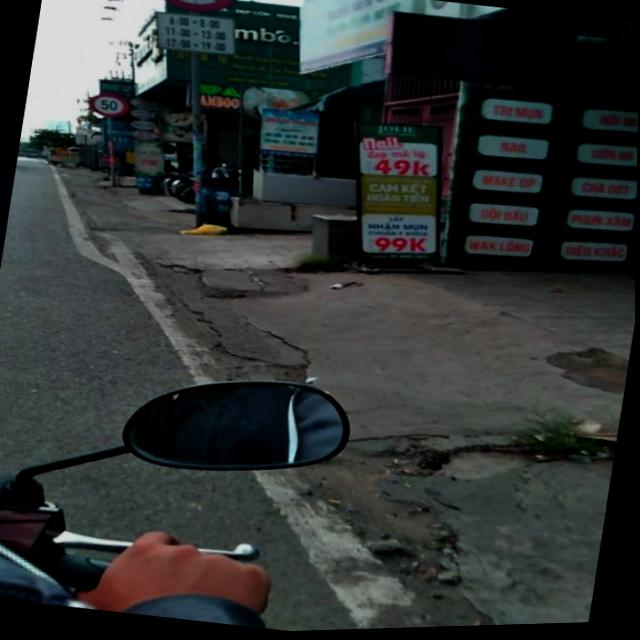Toc do toi da cho phep: (88, 91, 131, 121)
